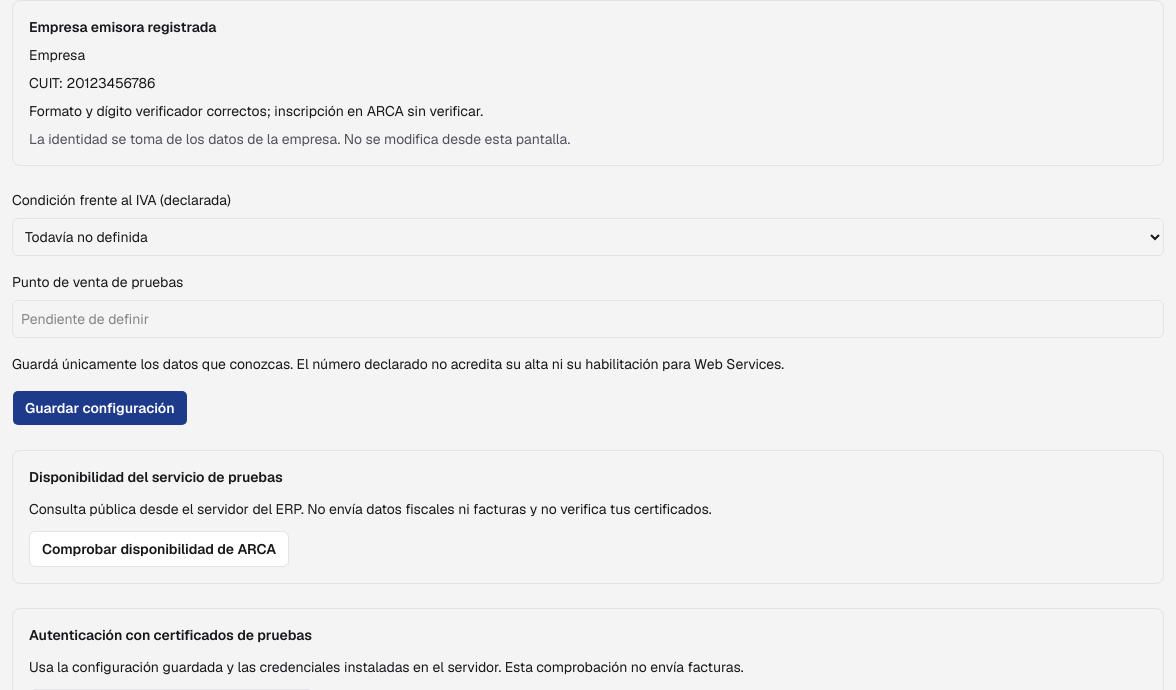
Scenario: Homologation setup › rejects invalid point 0 before saving
The width and height of the screenshot is (1176, 690).
Type "0" into the field at (588, 319), box [12,300,1164,338]
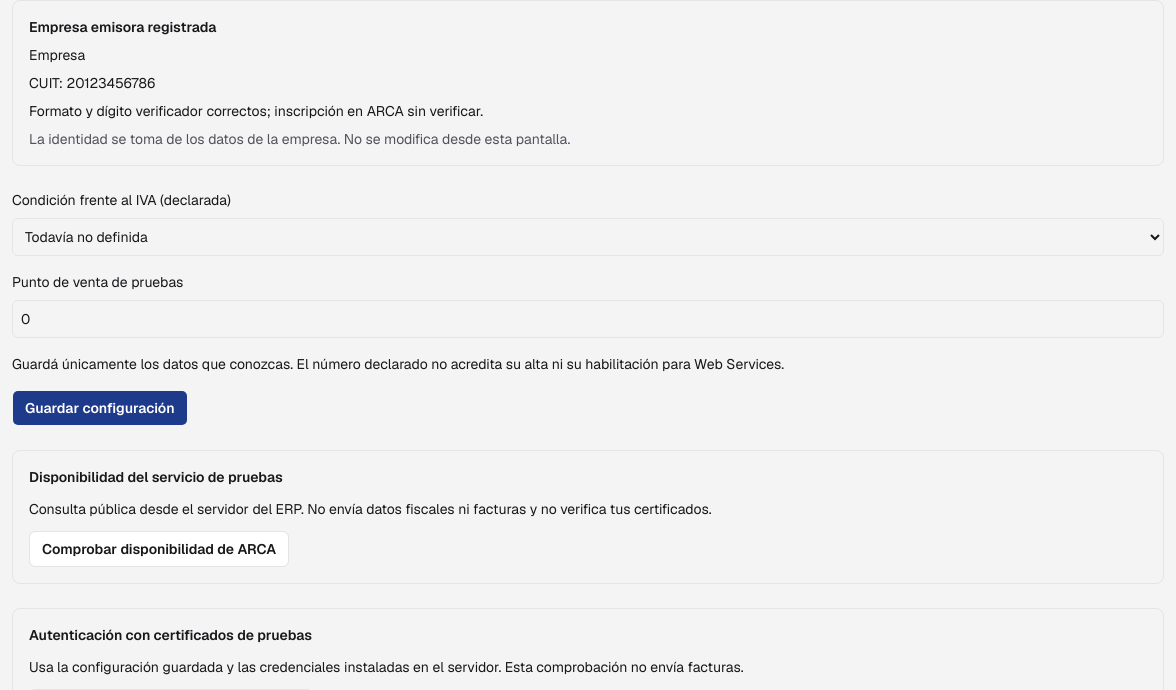
Click the button "Guardar configuración" at (100, 408), box [12,390,188,426]
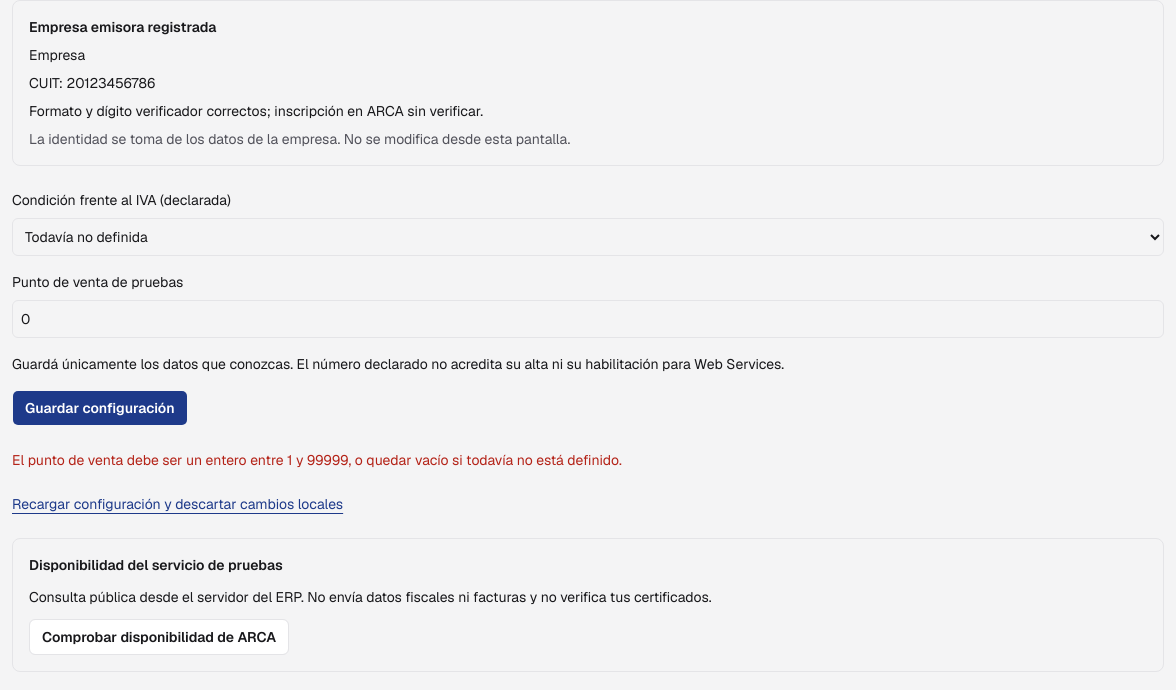
Expected: the message is shown, [12,451,622,469]
